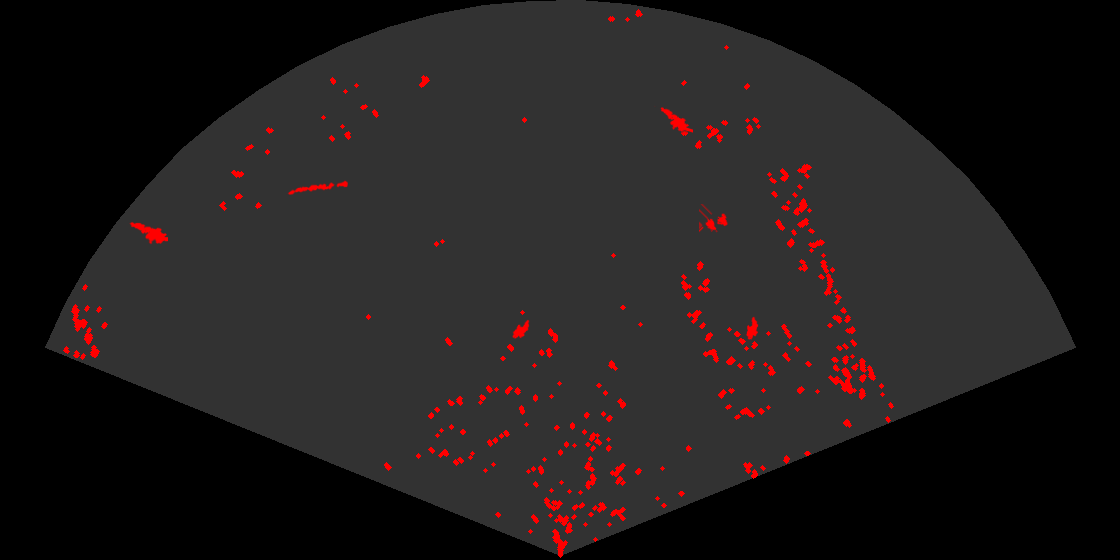AUV: (511, 318, 531, 340), (744, 315, 759, 341)
cage: (699, 204, 730, 234)
chain: (286, 179, 348, 196)
frogman: (654, 105, 693, 134), (129, 220, 168, 246)
